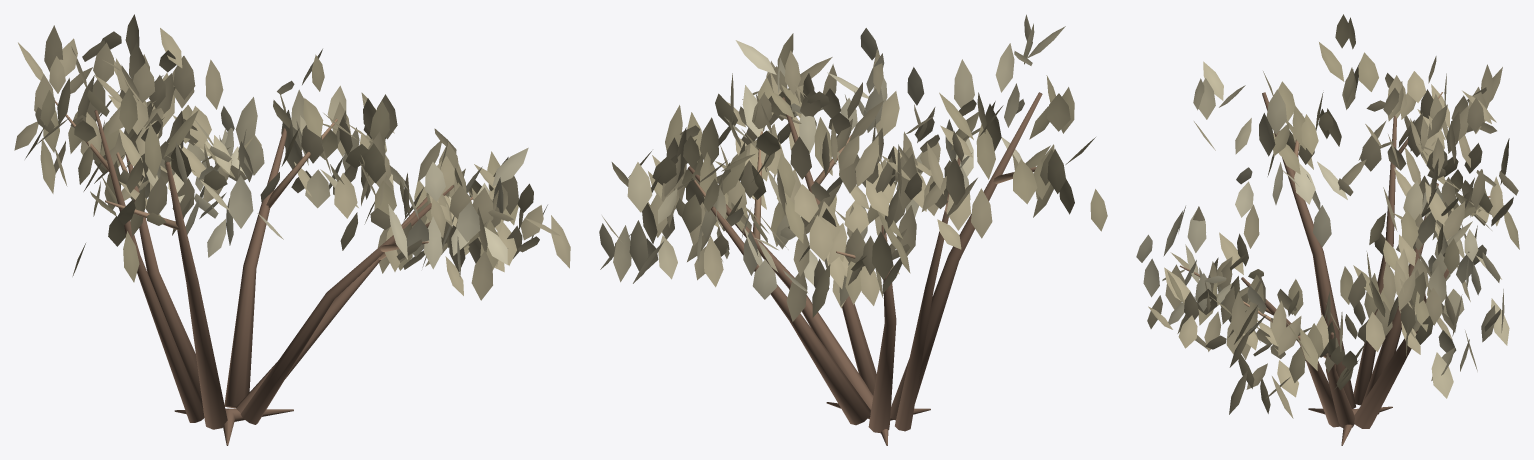
Rendered from bush_3d_05_golden_beige.glb.
3 renders of one model, left to right at view 1: azimuth 30°, elevation 25°; view 2: azimuth 150°, elevation 25°; view 3: azimuth 270°, elevation 25°, orthographic. The views are drawn at different scales.
Visible parts, largest first — view 1: bush_3d_05_golden_beige_foliage, bush_3d_05_golden_beige_wood; view 2: bush_3d_05_golden_beige_foliage, bush_3d_05_golden_beige_wood; view 3: bush_3d_05_golden_beige_foliage, bush_3d_05_golden_beige_wood.
Part boxes in pixels (left/top/right/bottom): bush_3d_05_golden_beige_foliage: left=14, top=14, right=570, bottom=300; bush_3d_05_golden_beige_wood: left=55, top=100, right=472, bottom=445; bush_3d_05_golden_beige_foliage: left=599, top=14, right=1107, bottom=321; bush_3d_05_golden_beige_wood: left=688, top=92, right=1042, bottom=445; bush_3d_05_golden_beige_foliage: left=1136, top=14, right=1519, bottom=418; bush_3d_05_golden_beige_wood: left=1179, top=92, right=1490, bottom=445.
Size of the model in its own units: 2.3 by 1.82 by 1.87.
